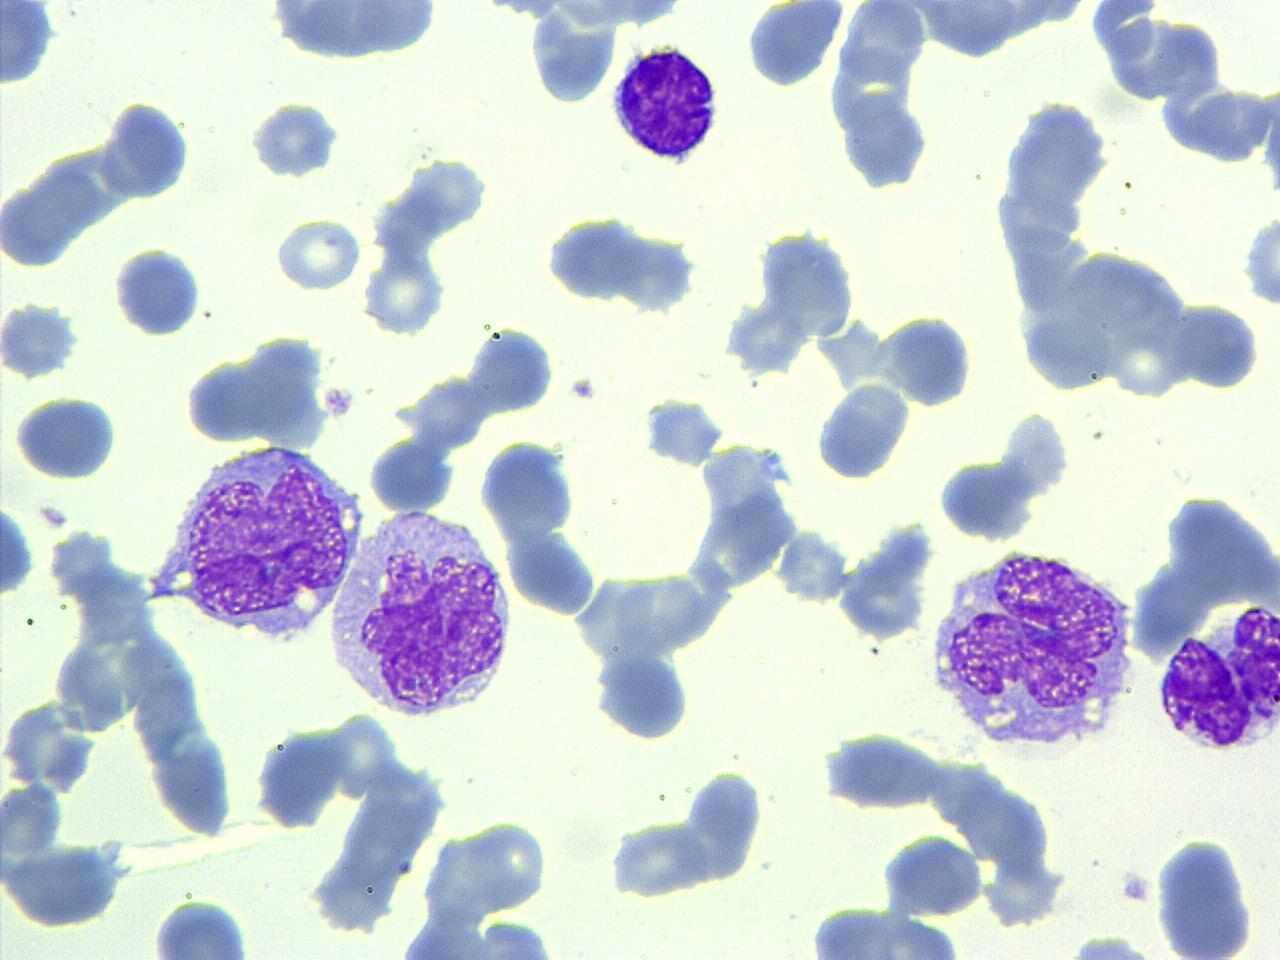Platelets: (246, 100, 344, 180), (640, 394, 724, 467), (1240, 210, 1280, 313), (1066, 932, 1158, 960), (1118, 868, 1154, 904), (322, 382, 357, 419), (36, 502, 70, 532), (568, 375, 596, 402)
RBC: (604, 764, 773, 924), (503, 527, 604, 616), (273, 214, 364, 293)
WBC: (974, 14, 1280, 422), (0, 520, 254, 955), (249, 702, 459, 951), (928, 540, 1140, 768), (1129, 487, 1280, 768), (165, 439, 366, 650), (325, 504, 519, 721), (354, 142, 501, 343), (400, 811, 572, 956), (600, 764, 770, 910), (475, 0, 695, 108), (822, 0, 940, 197), (720, 225, 860, 379), (178, 329, 345, 454), (935, 406, 1074, 548), (542, 210, 704, 313), (607, 40, 725, 168), (880, 2, 1106, 68), (830, 514, 942, 646), (1151, 831, 1261, 960), (261, 2, 447, 68), (816, 726, 944, 815), (812, 376, 916, 485), (477, 436, 582, 542), (97, 95, 198, 204), (588, 646, 696, 744), (11, 390, 123, 484), (740, 0, 848, 92), (798, 903, 973, 959), (878, 830, 989, 917), (380, 914, 585, 960), (604, 814, 713, 900), (111, 243, 206, 340), (465, 321, 561, 416), (245, 99, 346, 180), (366, 430, 456, 517), (146, 894, 258, 960), (1, 298, 83, 381), (641, 391, 724, 469), (0, 1, 61, 92), (1240, 207, 1280, 314), (0, 500, 37, 600), (1062, 928, 1166, 960)
